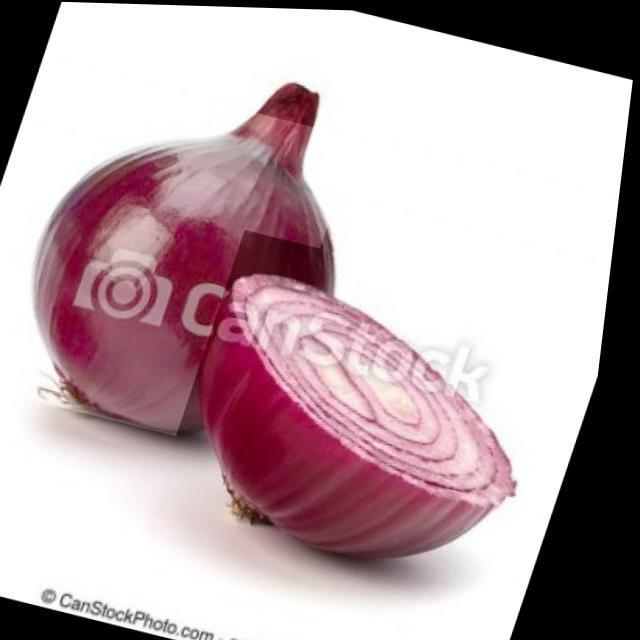Onion: (148, 226, 604, 624), (0, 68, 366, 454)
